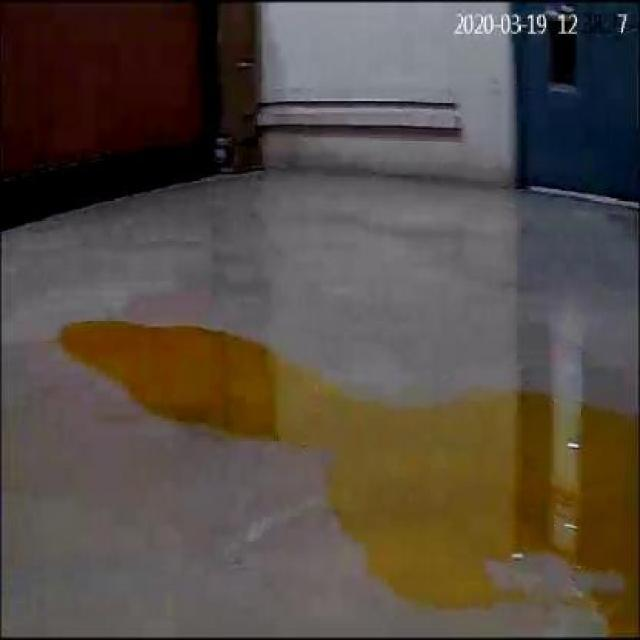spill: (49, 316, 636, 630)
